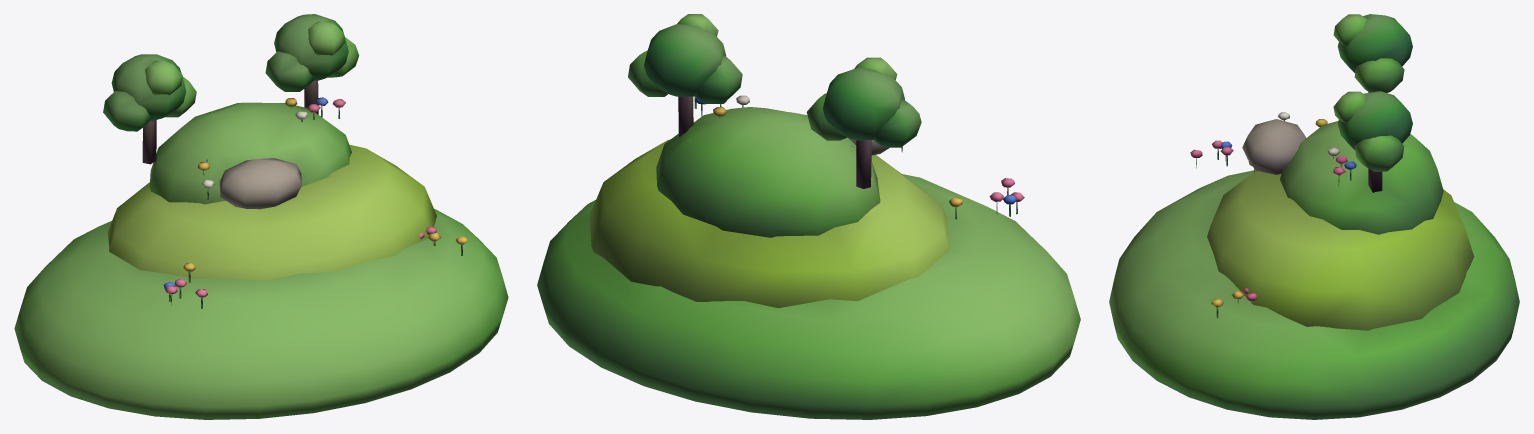
Rendered from sermon.glb.
The picture shows the model from 3 angles, left to right: view 1: azimuth 30°, elevation 25°; view 2: azimuth 150°, elevation 25°; view 3: azimuth 270°, elevation 25°; orthographic projection. The views are drawn at different scales.
Visible parts, largest first — view 1: sermon; view 2: sermon; view 3: sermon.
Part boxes in pixels (bbox=[...]): sermon: bbox=[14, 14, 508, 419]; sermon: bbox=[537, 14, 1080, 419]; sermon: bbox=[1109, 14, 1519, 419].
Bounding box in the file's own units: 6.6 × 3.8 × 5.4.
